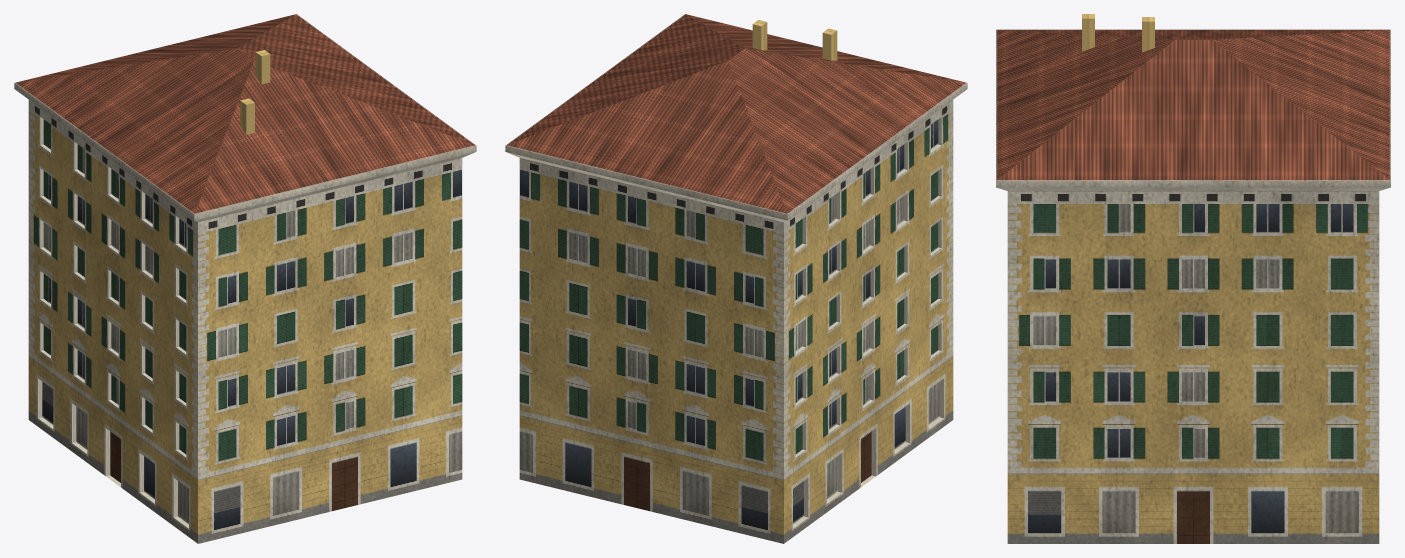
Rendered from SM_Fondale_Palazzo_A_LOD1.fbx.
3 renders of one model, left to right at view 1: azimuth 30°, elevation 25°; view 2: azimuth 150°, elevation 25°; view 3: azimuth 270°, elevation 25°, orthographic. The views are drawn at different scales.
Visible parts, largest first — view 1: SM_Fondale_Palazzo_A_LOD1; view 2: SM_Fondale_Palazzo_A_LOD1; view 3: SM_Fondale_Palazzo_A_LOD1.
Boxes of the visible parts, x1,y1,x2,y2 form: SM_Fondale_Palazzo_A_LOD1: [14, 14, 476, 543]; SM_Fondale_Palazzo_A_LOD1: [505, 14, 967, 543]; SM_Fondale_Palazzo_A_LOD1: [996, 14, 1390, 543].
Size of the model in its own units: 1924 by 2124 by 2686.
1 material, 1 textured.
